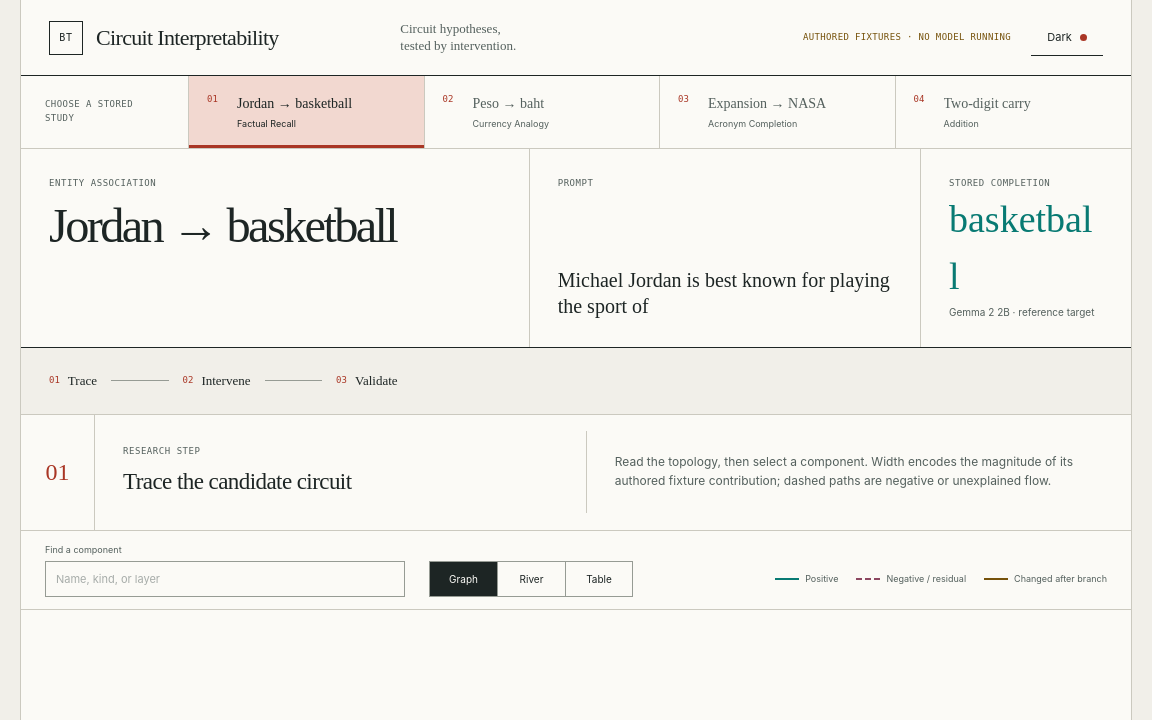
Test: BranchTraceApp interactions › filters the table and keeps node selection equivalent to the graph
Type "country-name competitor" into the field named "Search circuit features".
click(225, 579); type("country-name competitor")  # box [45,561,405,597]
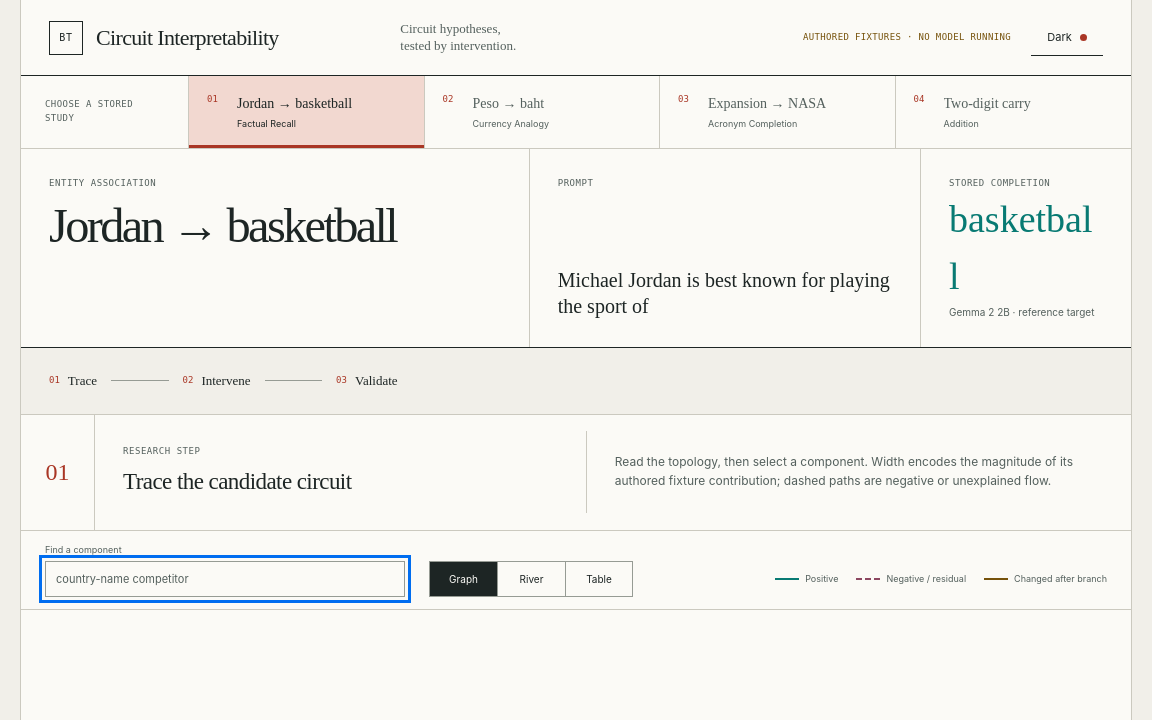
Click the button with test id "view-table".
click(599, 579)  # box [565,561,633,597]
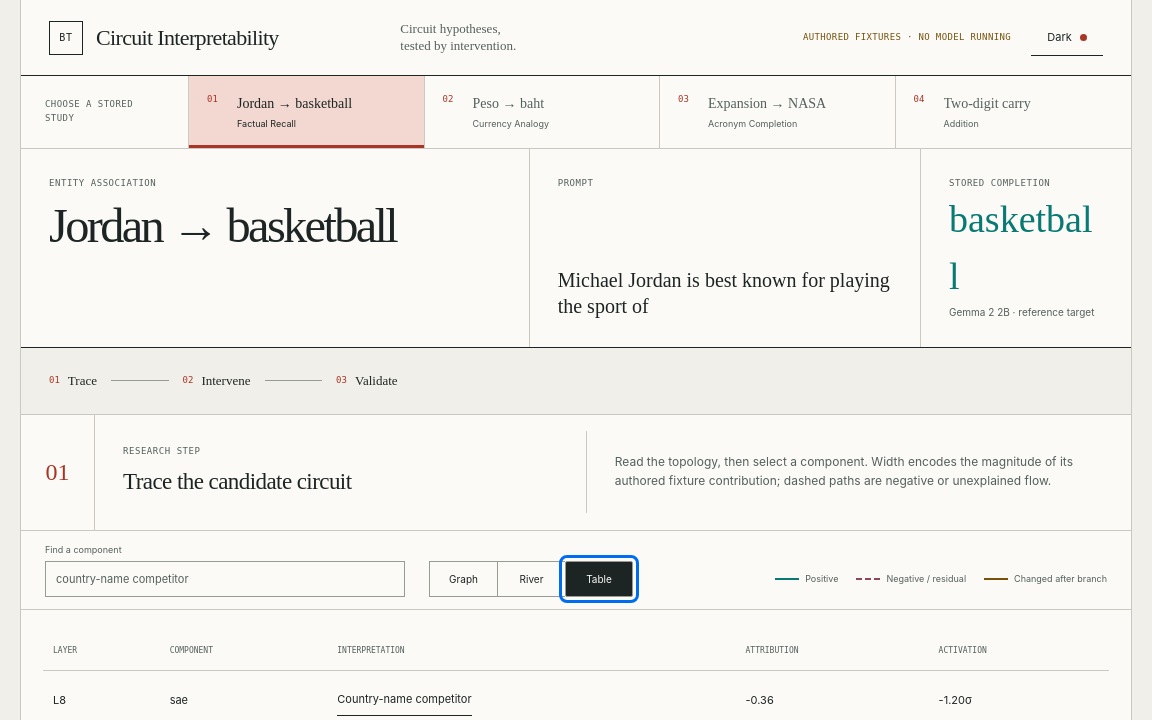
Click the button "Country-name competitor".
click(404, 700)  # box [337,684,472,716]
(page scrolled)
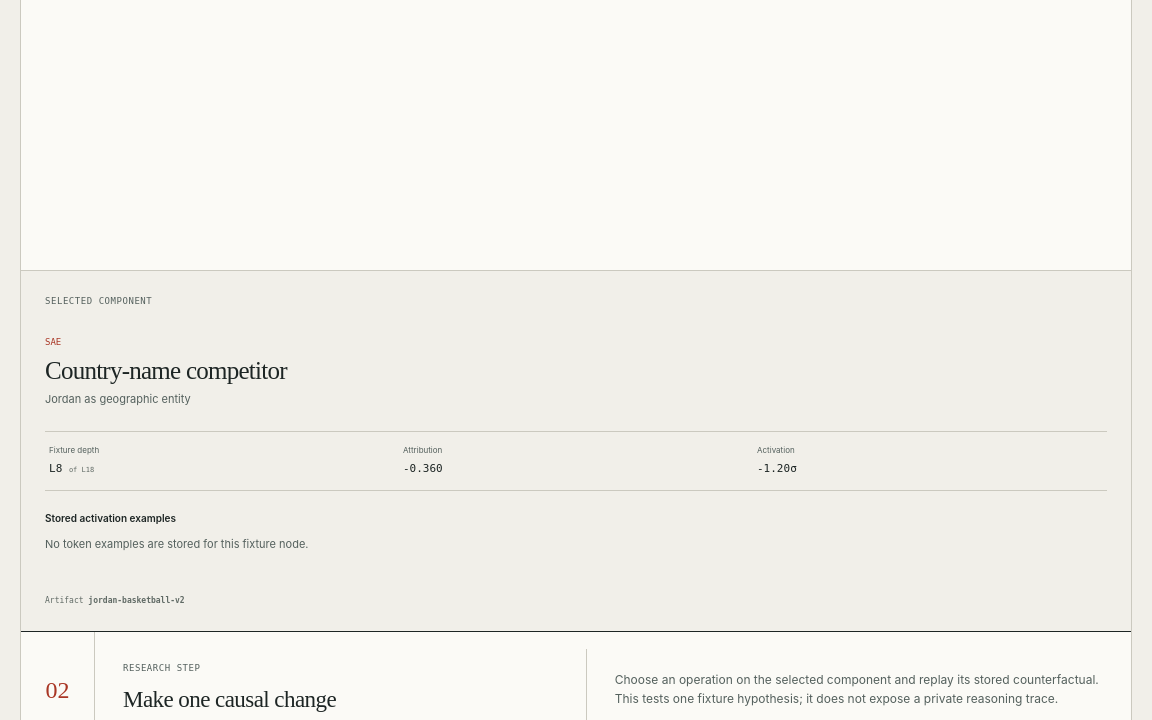
Check: the heading "Country-name competitor" is shown, box [45,356,287,384]
